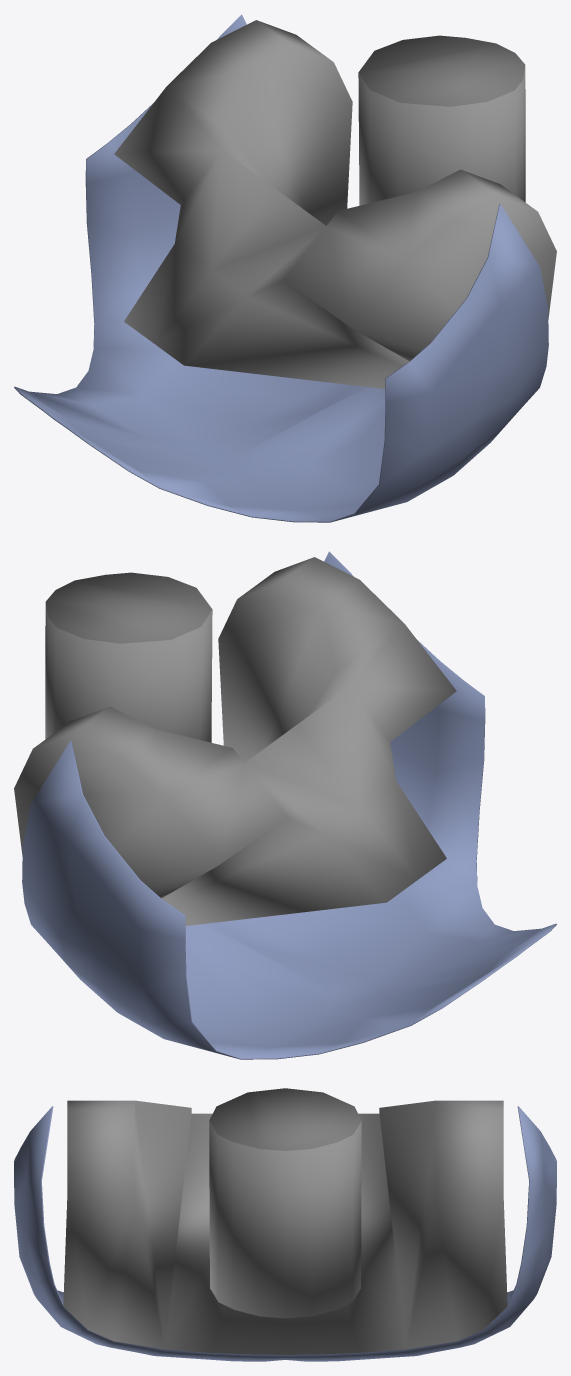
File: icub_simple_lap_belt_1.dae
3 views of the same model, one above another, from view 1: azimuth 30°, elevation 25°; view 2: azimuth 150°, elevation 25°; view 3: azimuth 270°, elevation 25° (orthographic). The views are drawn at different scales.
Visible parts, largest first — view 1: pelvis_mesh; view 2: pelvis_mesh; view 3: pelvis_mesh.
Part boxes in pixels (left/top/right/bottom): pelvis_mesh: left=14, top=14, right=556, bottom=522; pelvis_mesh: left=14, top=551, right=556, bottom=1059; pelvis_mesh: left=14, top=1088, right=556, bottom=1361.
Bounding box in the file's own units: 0.1951 × 0.136 × 0.2202.
